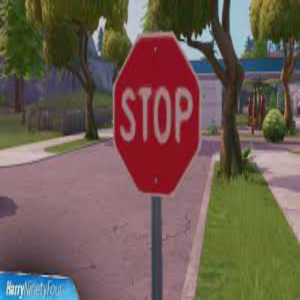STOP_SIGN: (112, 32, 202, 196)
